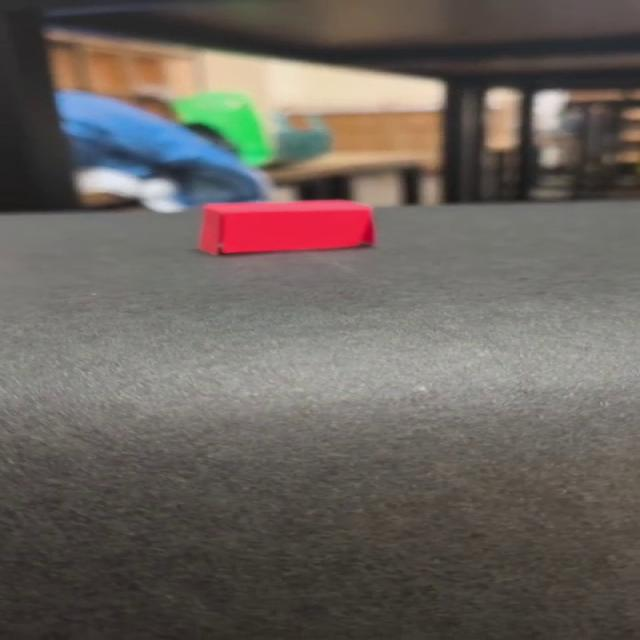red block: (196, 198, 376, 255)
